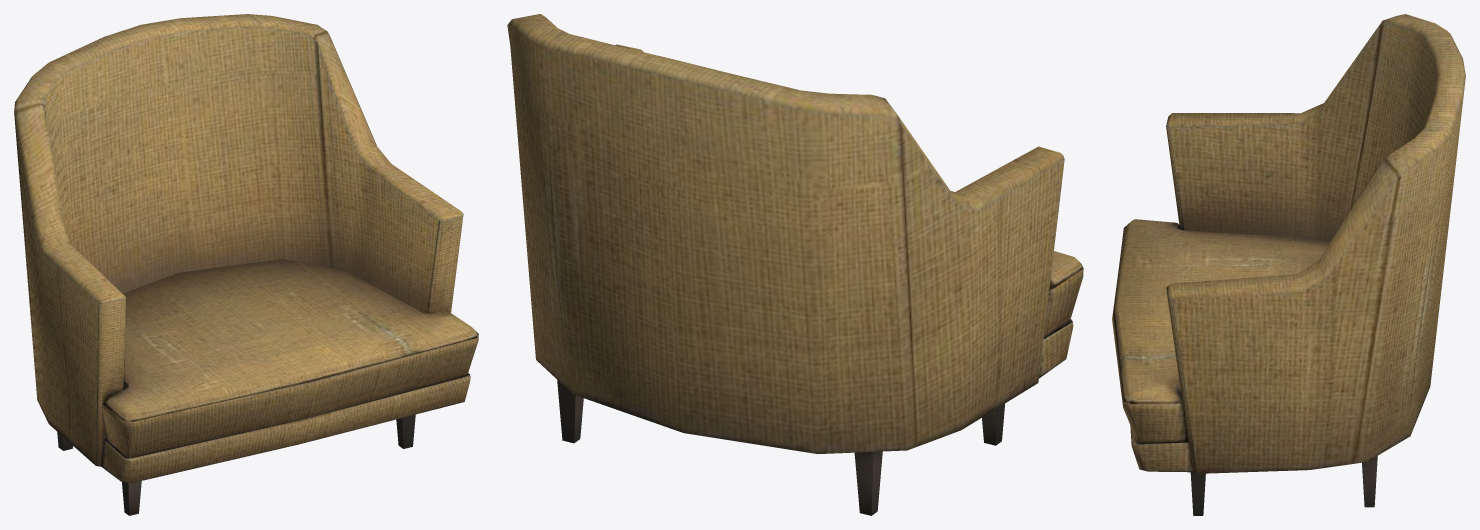
File: si-sofa-2.glb
3 renders of one model, left to right at view 1: azimuth 30°, elevation 25°; view 2: azimuth 150°, elevation 25°; view 3: azimuth 270°, elevation 25°, orthographic. The views are drawn at different scales.
Parts seen in each view (by area): view 1: si-sofa-2; view 2: si-sofa-2; view 3: si-sofa-2.
Part boxes in pixels (bbox=[...]): si-sofa-2: bbox=[14, 14, 478, 515]; si-sofa-2: bbox=[507, 14, 1083, 515]; si-sofa-2: bbox=[1112, 14, 1465, 515].
Size of the model in its own units: 0.8655 by 0.8182 by 0.7049.
Materials: 1 (1 with a texture image).
